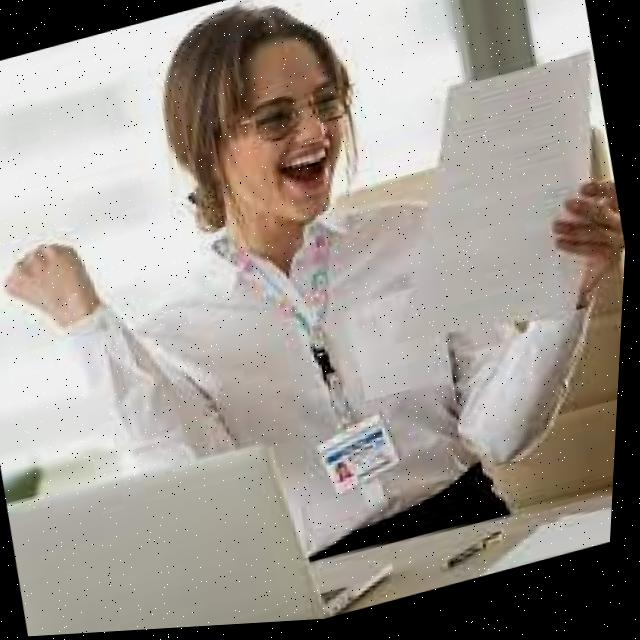id_card: (213, 207, 425, 522)
